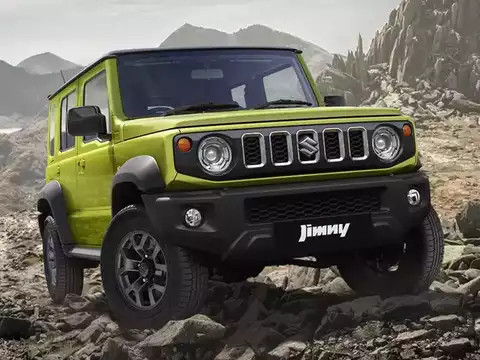car: (35, 45, 445, 328)
